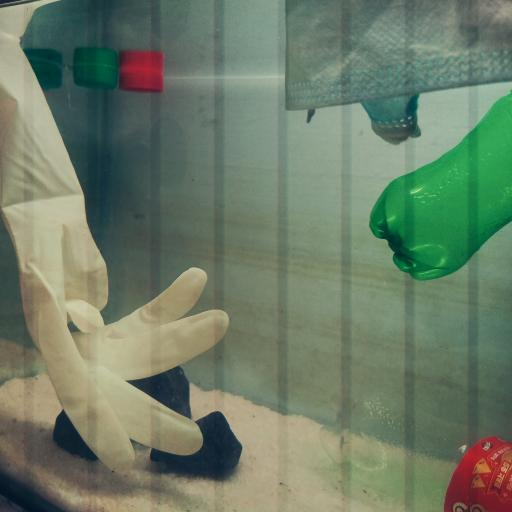bottle_cap: (73, 51, 122, 92), (118, 63, 163, 96), (32, 62, 66, 92)
glove: (5, 6, 231, 474)
mask: (278, 2, 512, 141)
plastic_bottle: (368, 89, 512, 279), (313, 383, 512, 512)
